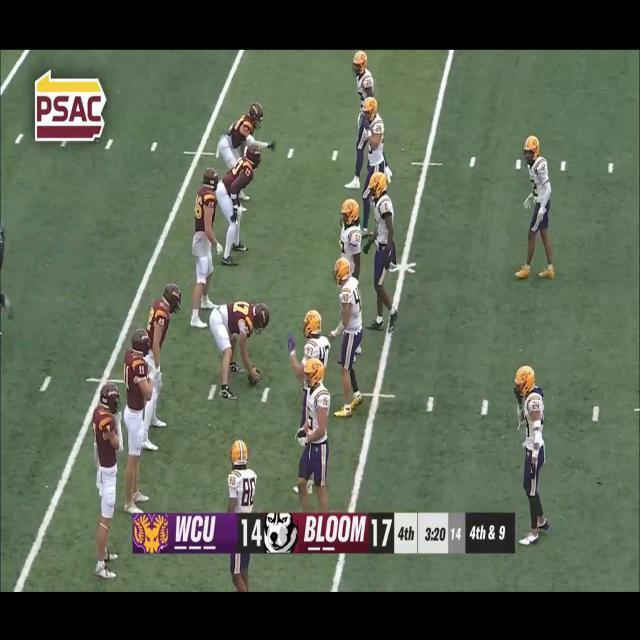football: (246, 364, 266, 388)
